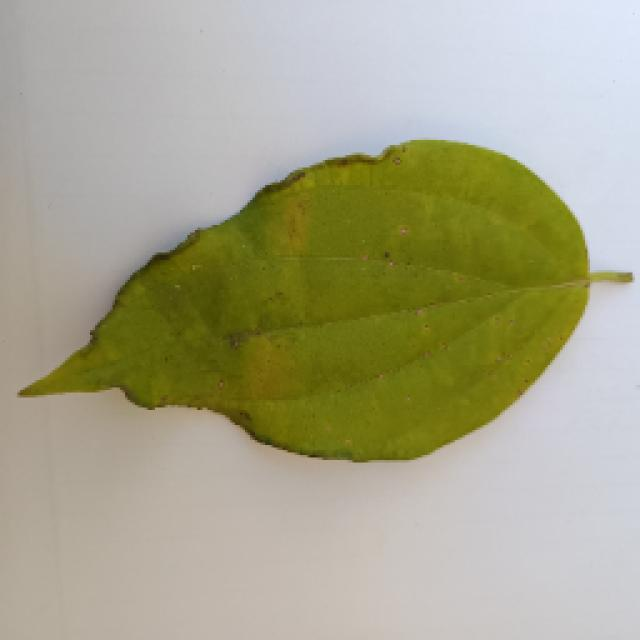slow-decline: (10, 122, 628, 460)
